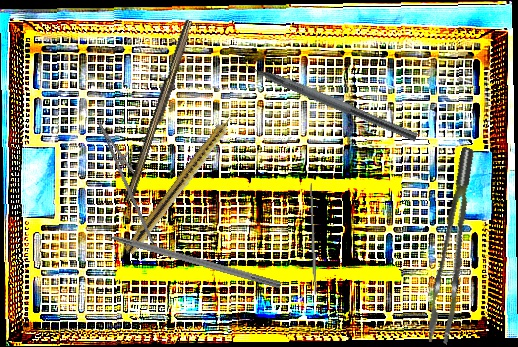Chopper: (230, 46, 424, 143)
Handpiece: (123, 106, 244, 258)
Hook Surgical: (85, 224, 283, 289)
Needle Holder: (83, 116, 177, 245)
Scalpel Handle: (123, 18, 197, 204), (309, 182, 317, 296)
Tissue Forceps: (408, 146, 501, 347)
